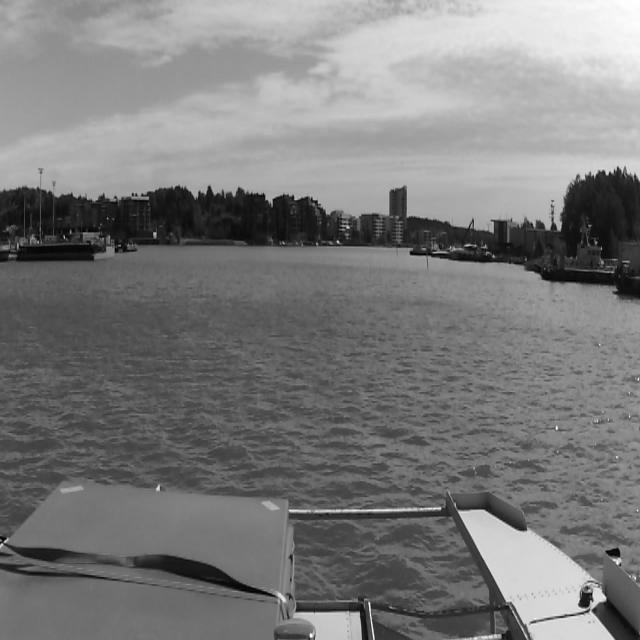ship: (543, 212, 625, 284), (451, 242, 497, 261), (408, 244, 430, 256)
